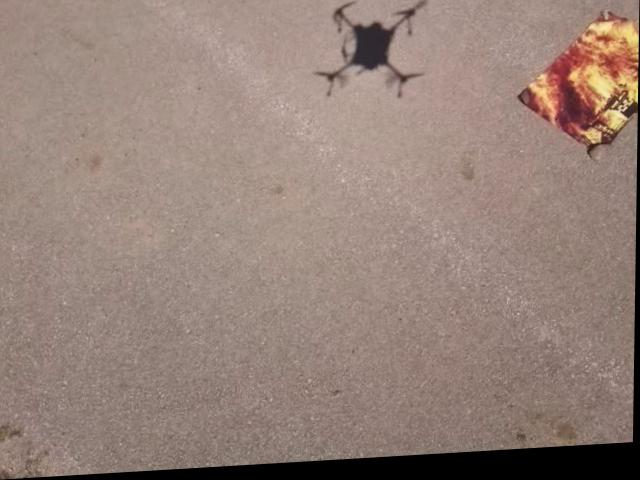fire-poster: (516, 13, 639, 171)
